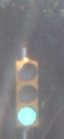Green: (10, 56, 38, 134)
